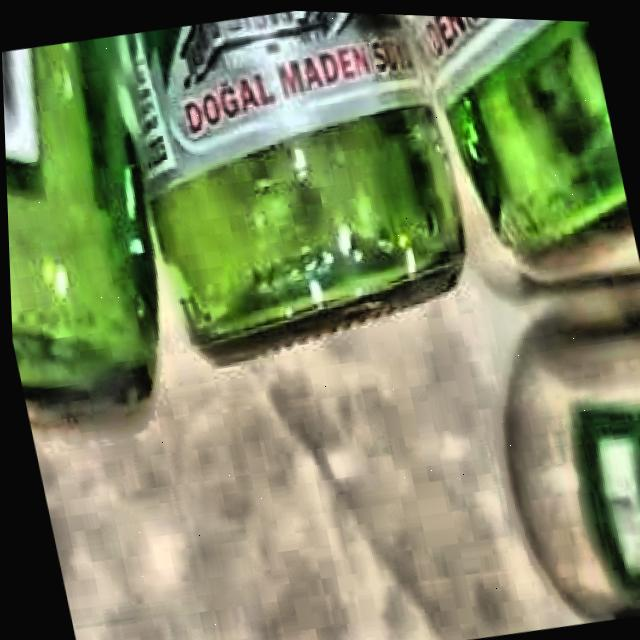glass: (1, 8, 632, 433)
